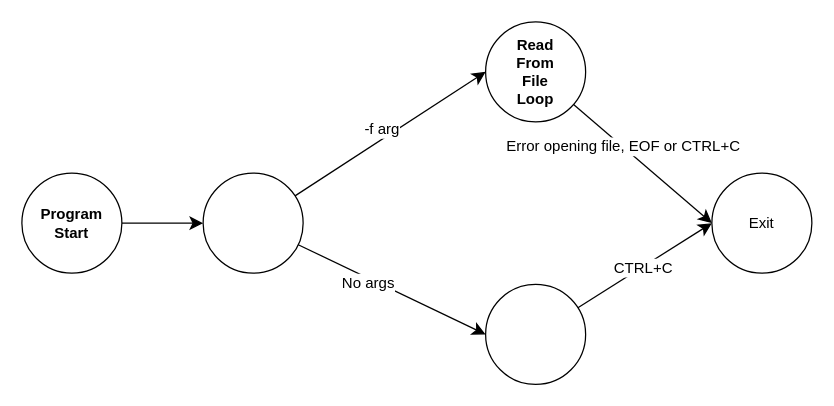
Some shapes in this 834 by 406 pixel diagram are drawn without their labels. Here are the shapes that lost their labels. From the top down, the centre of each, then its label:
At point (252, 222): "Parse Args".
At point (535, 333): "Generate Words Loop".
